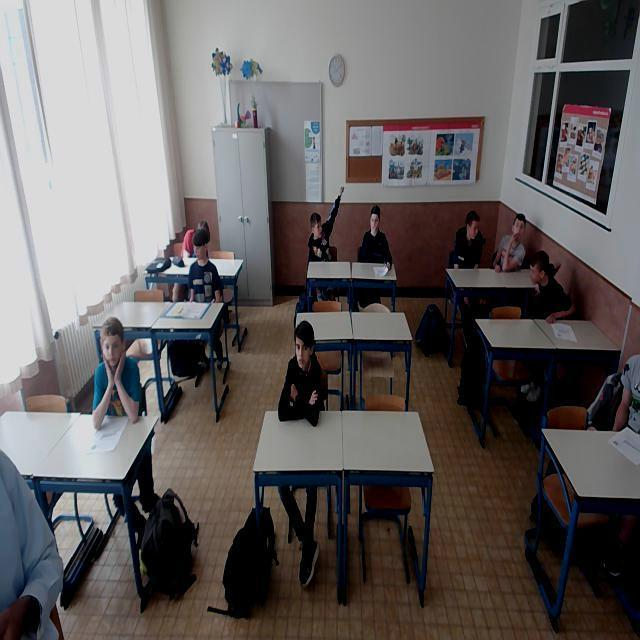Looking away: (196, 234, 210, 264), (472, 214, 482, 243)
Looking forward: (288, 316, 318, 374), (94, 324, 128, 366), (367, 198, 382, 236), (514, 214, 525, 240)
Raising hand: (305, 181, 344, 264)
Turning around: (518, 244, 578, 322)
